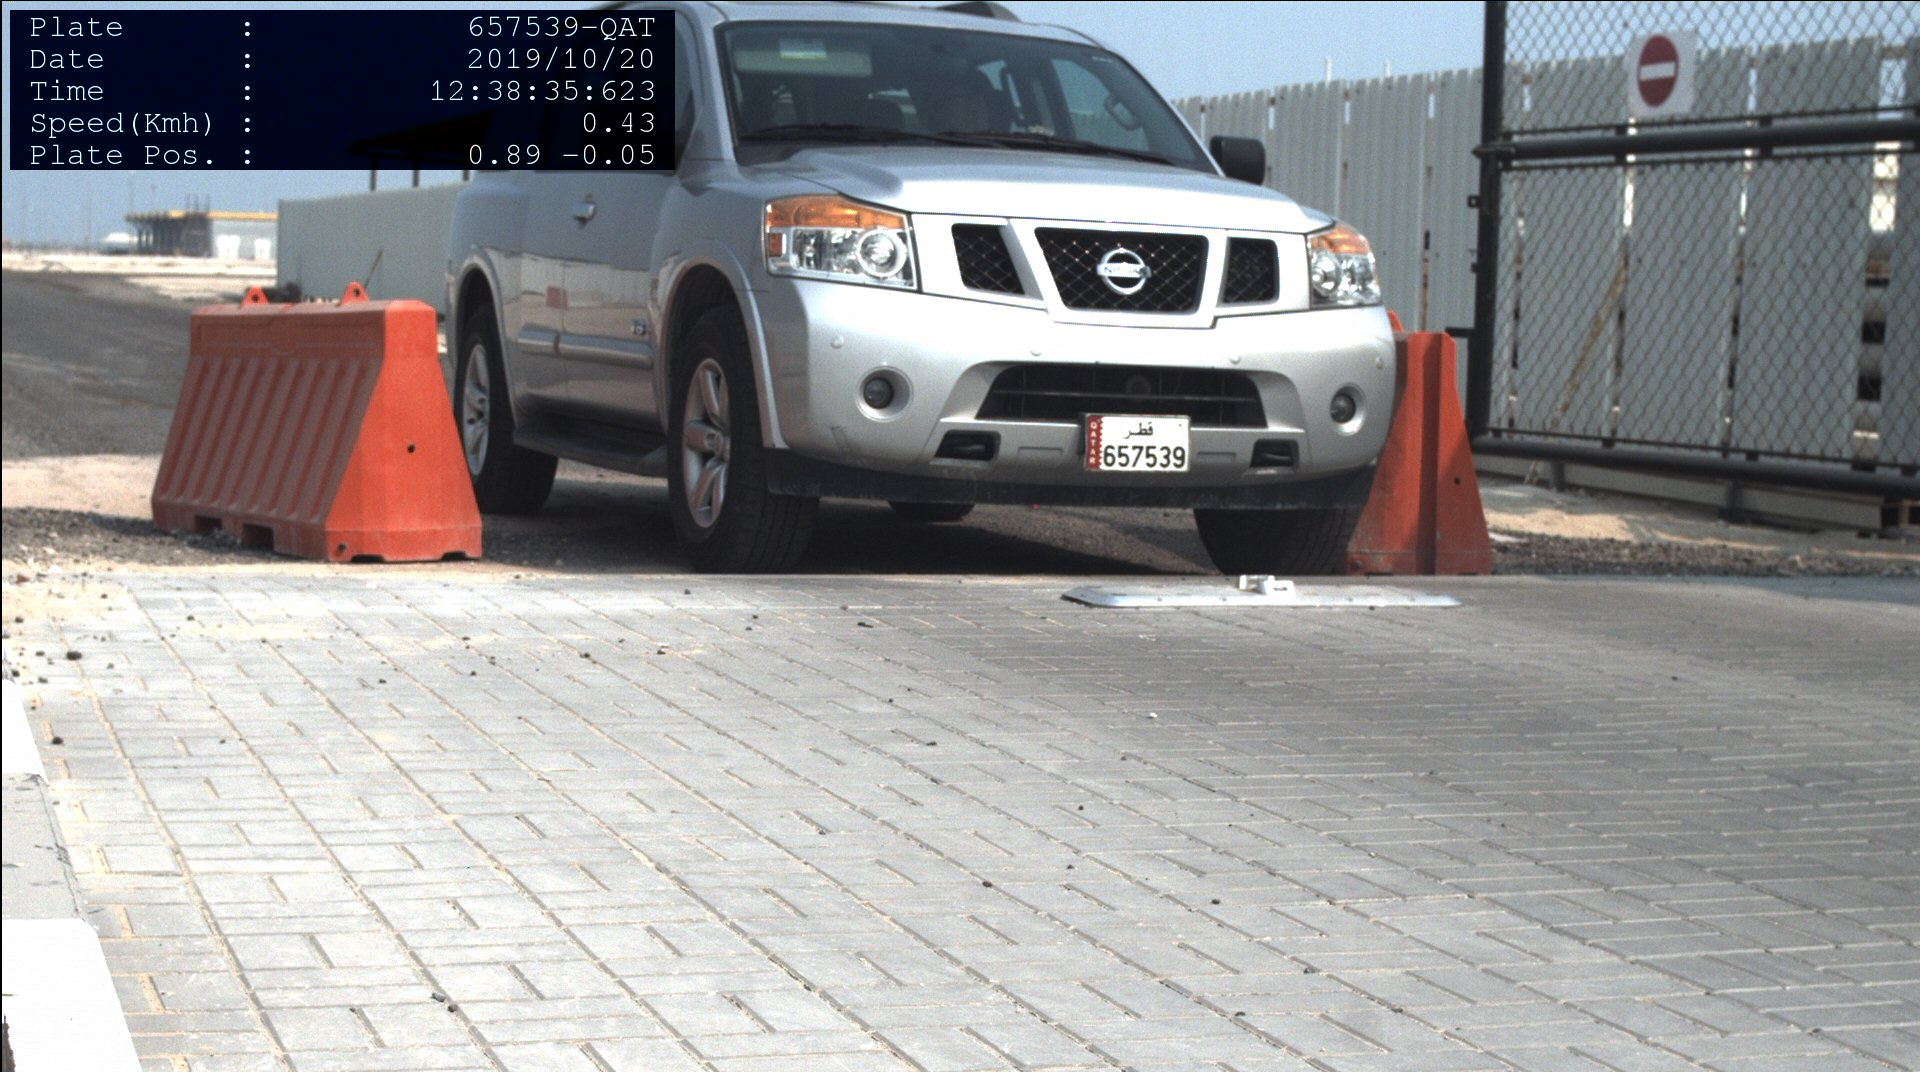License Plate: (1086, 415, 1189, 471)
